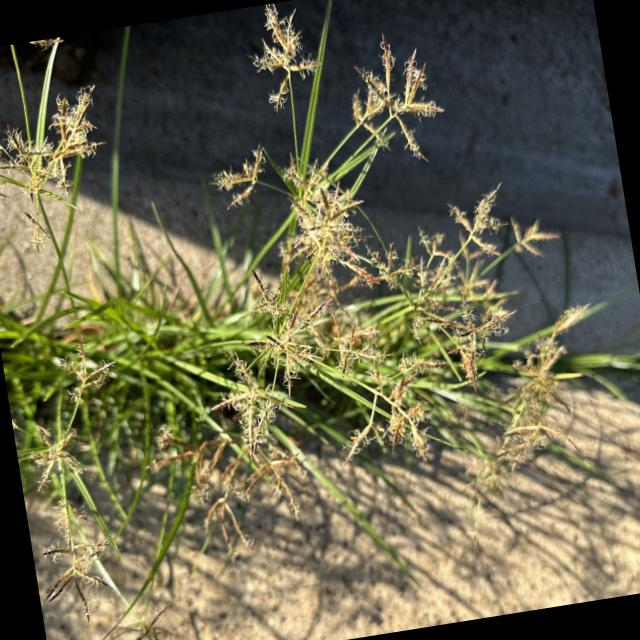cyperus: (147, 0, 489, 460), (168, 128, 398, 452), (326, 174, 554, 457), (0, 330, 146, 610), (438, 300, 619, 516), (142, 388, 314, 552), (0, 32, 121, 252), (339, 27, 442, 166), (236, 0, 331, 118), (503, 207, 565, 270)
